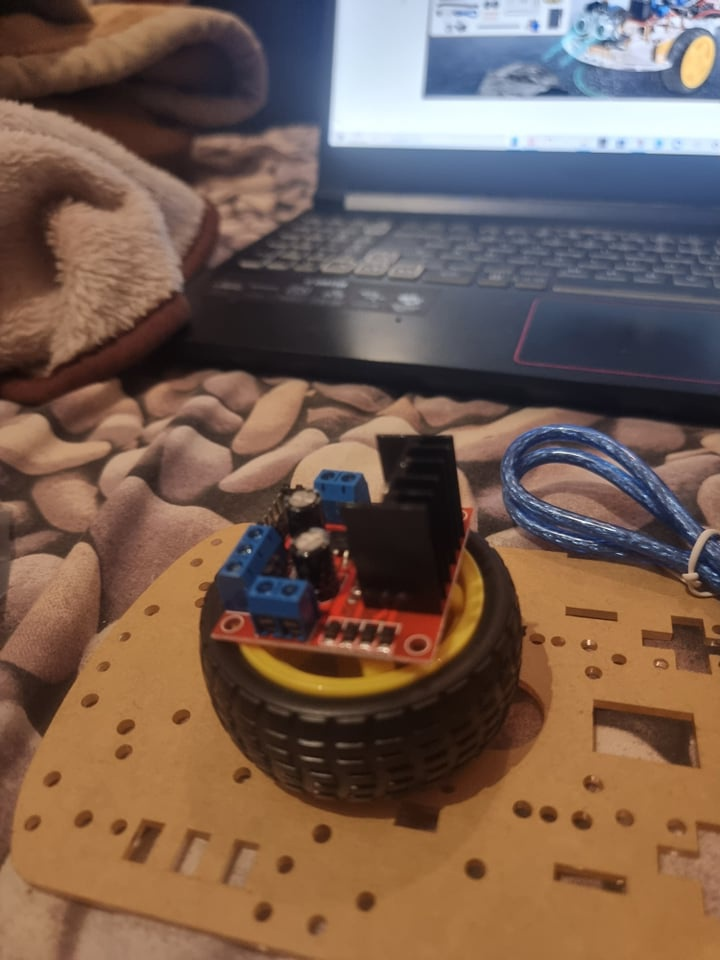MOTOR: (212, 432, 479, 665)
